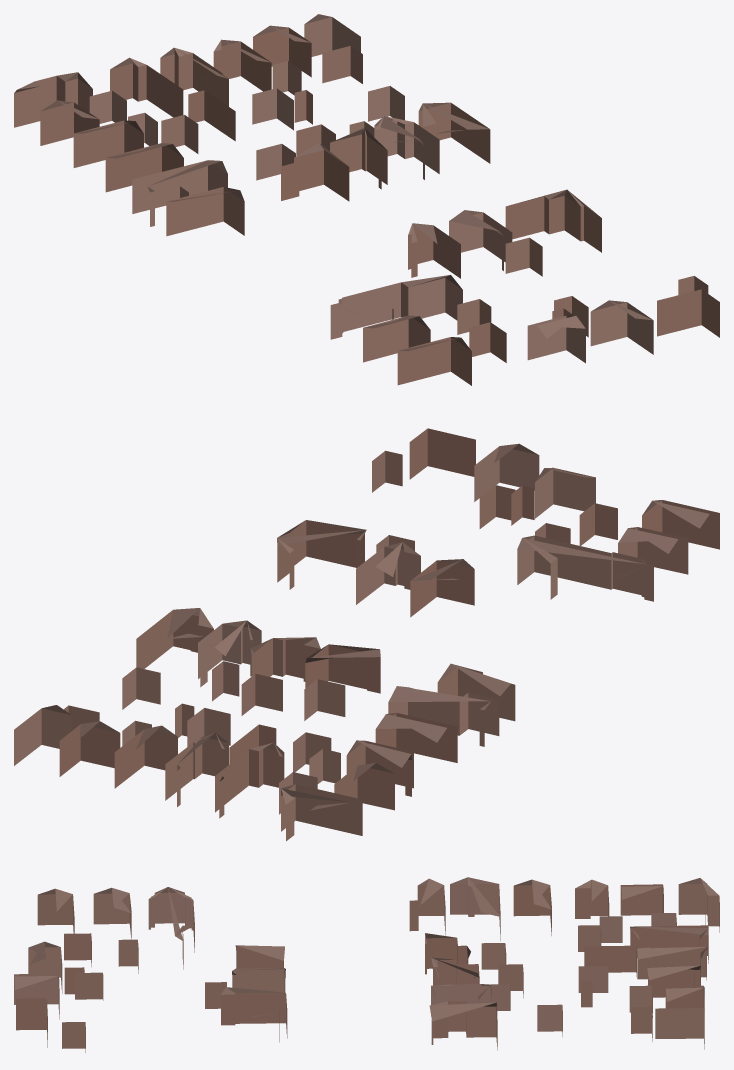
The model's file is c_1642_17824_buildings_residential.glb.
3 renders of one model, top to bottom at view 1: azimuth 30°, elevation 25°; view 2: azimuth 150°, elevation 25°; view 3: azimuth 270°, elevation 25°, orthographic. The views are drawn at different scales.
Visible parts, largest first — view 1: geometry_0; view 2: geometry_0; view 3: geometry_0.
Boxes of the visible parts, <box> form: geometry_0: <box>14,14,719,385</box>; geometry_0: <box>14,428,719,841</box>; geometry_0: <box>14,877,719,1052</box>.
Bounding box in the file's own units: 91.62 × 10.94 × 192.
